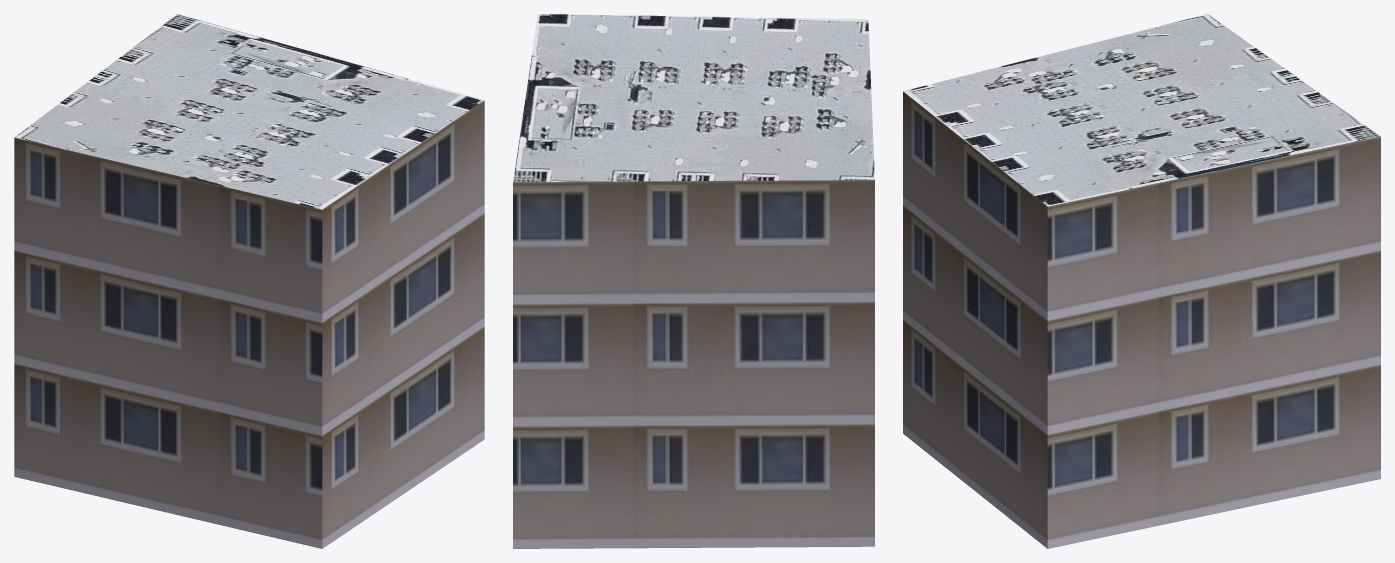
The model's file is ResTex__2496.fbx.
The picture shows the model from 3 angles, left to right: view 1: azimuth 30°, elevation 25°; view 2: azimuth 150°, elevation 25°; view 3: azimuth 270°, elevation 25°; orthographic projection. The views are drawn at different scales.
Visible parts, largest first — view 1: CityEngineMaterial_21_m, CityEngineMaterial_m; view 2: CityEngineMaterial_21_m, CityEngineMaterial_m; view 3: CityEngineMaterial_21_m, CityEngineMaterial_m.
Boxes of the visible parts, x1,y1,x2,y2 form: CityEngineMaterial_21_m: (14, 100, 484, 548); CityEngineMaterial_m: (14, 14, 484, 209); CityEngineMaterial_21_m: (513, 180, 874, 548); CityEngineMaterial_m: (513, 14, 874, 181); CityEngineMaterial_21_m: (903, 91, 1380, 548); CityEngineMaterial_m: (903, 14, 1380, 206).
Bounding box in the file's own units: 10.86 × 9 × 11.38.
2 materials, 2 textured.
